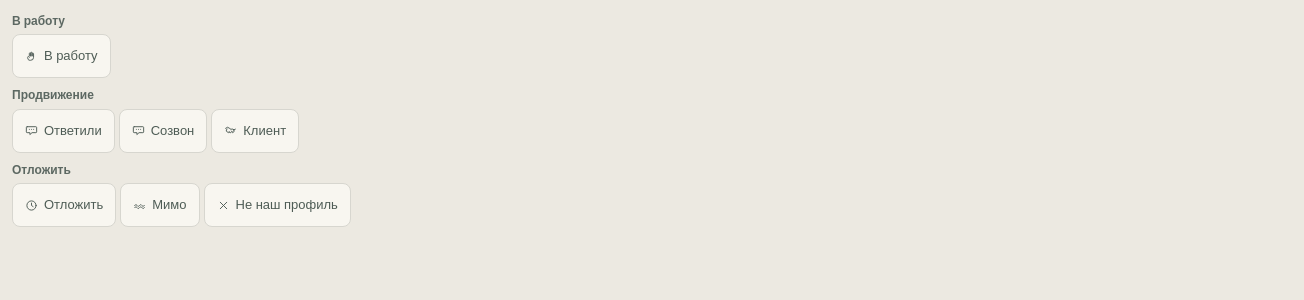
it: FeedbackButtons motion and status feedback › moves focus into the optional note disclosure
Click the button "Не наш профиль" at [277, 205], box [204, 183, 351, 227]
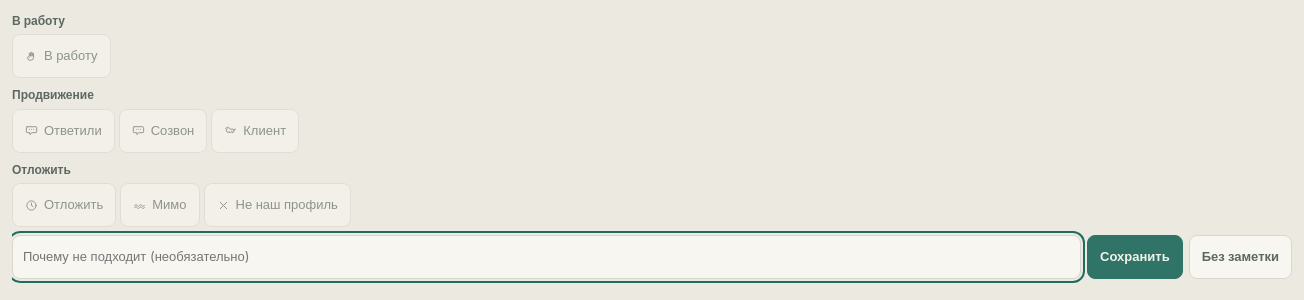
Check: the element named "Заметка к решению" is shown, box [12, 235, 1292, 279]
Check: the button "В работу" is disabled, box [12, 34, 111, 78]
